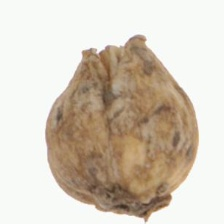L1: (110, 191, 174, 222), (81, 33, 148, 60)
L2: (45, 34, 199, 220)
